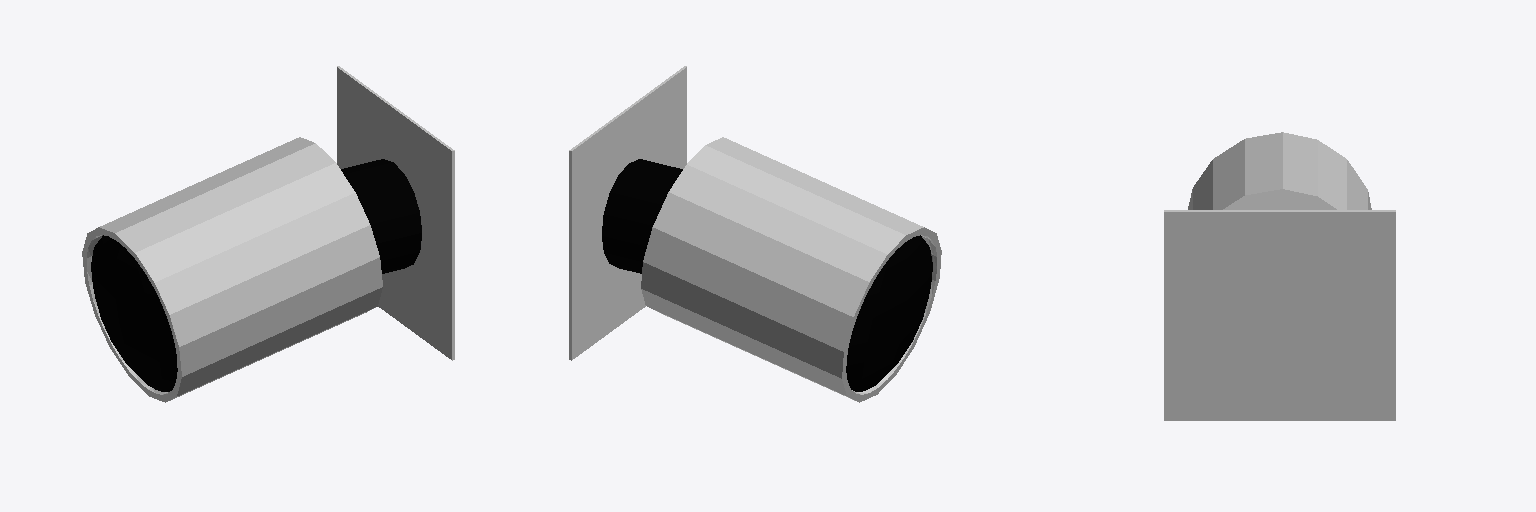
The model's file is camera.obj.
3 renders of one model, left to right at view 1: azimuth 30°, elevation 25°; view 2: azimuth 150°, elevation 25°; view 3: azimuth 270°, elevation 25°, orthographic.
Parts seen in each view (by area): view 1: model__tehnika__camera; view 2: model__tehnika__camera; view 3: model__tehnika__camera.
Boxes of the visible parts, box(x1,y1,x2,y2) form: model__tehnika__camera: box(82, 66, 454, 402); model__tehnika__camera: box(569, 66, 941, 402); model__tehnika__camera: box(1164, 132, 1395, 420).
Bounding box in the file's own units: 8.04 × 6.17 × 5.7.